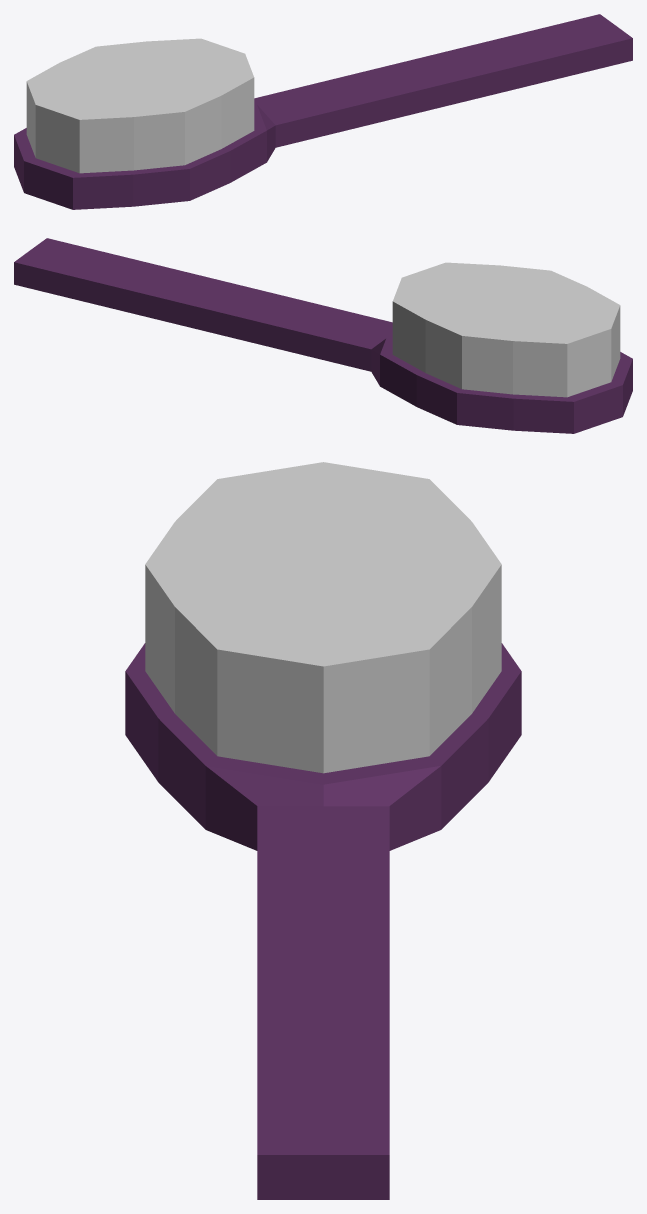
The model's file is Brush.fbx.
The picture shows the model from 3 angles, top to bottom: view 1: azimuth 30°, elevation 25°; view 2: azimuth 150°, elevation 25°; view 3: azimuth 270°, elevation 25°; orthographic projection. The views are drawn at different scales.
Visible parts, largest first — view 1: Brush; view 2: Brush; view 3: Brush.
Part boxes in pixels (<box>): Brush: <box>14,14,632,209</box>; Brush: <box>14,238,632,433</box>; Brush: <box>125,462,521,1199</box>.
Bounding box in the file's own units: 232 × 32 × 67.2.
